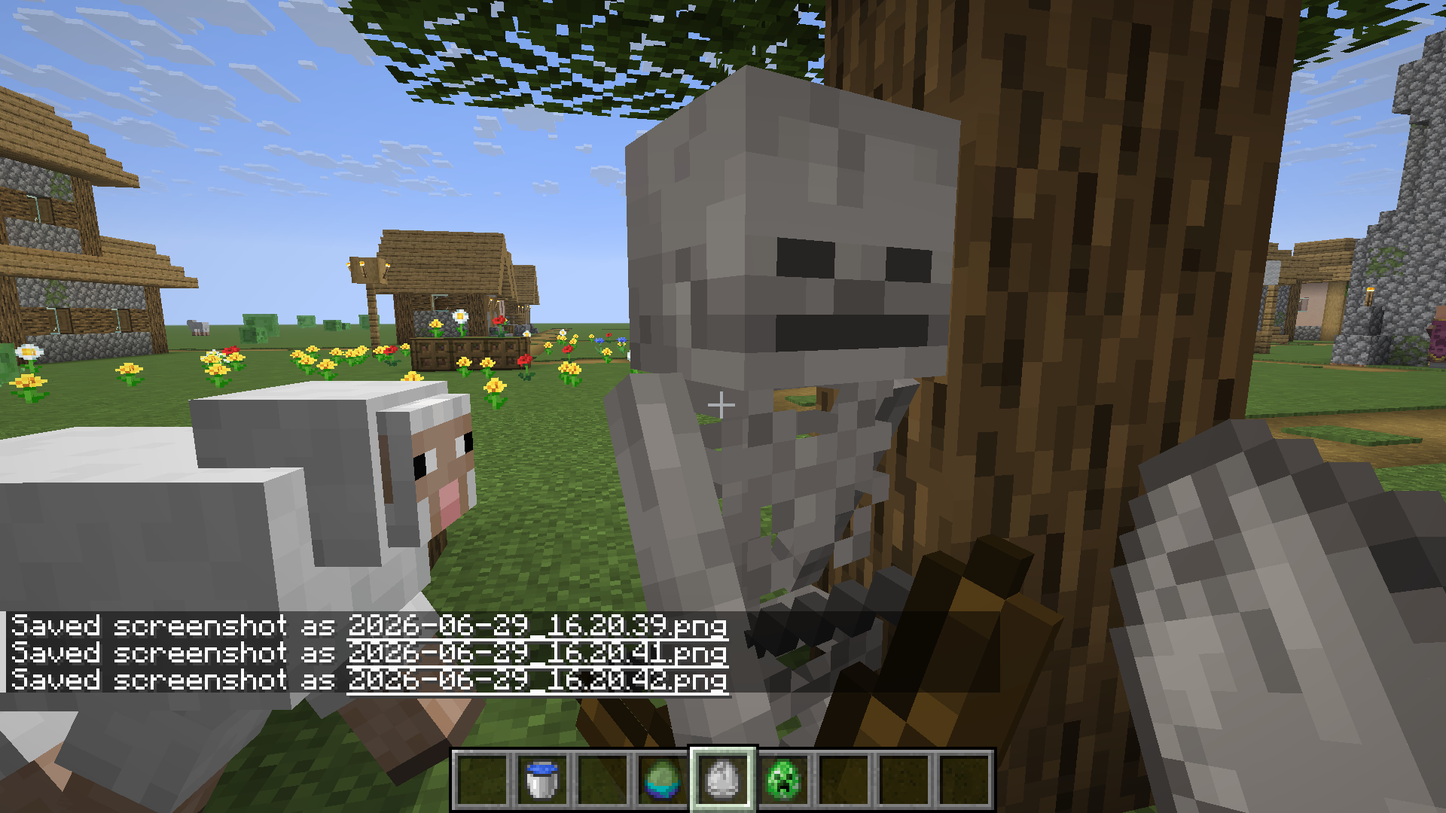Sheep: (0, 382, 492, 614)
skeleton: (615, 100, 956, 602)
